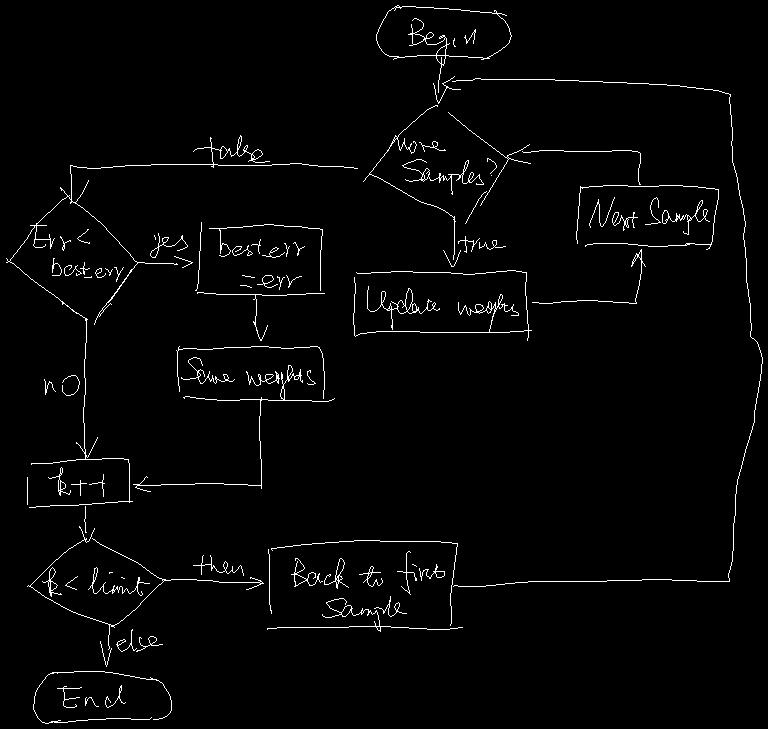arrow: (442, 76, 762, 586), (133, 397, 261, 491), (60, 163, 357, 203), (532, 249, 645, 303), (507, 144, 640, 184), (76, 318, 97, 458), (162, 577, 263, 589), (443, 216, 460, 266), (433, 57, 447, 103), (253, 295, 267, 340), (137, 256, 192, 267), (79, 506, 94, 542), (100, 624, 111, 666)
decision: (363, 105, 508, 223), (6, 195, 138, 324), (27, 538, 165, 627)
process: (267, 540, 462, 629), (353, 270, 531, 340), (195, 222, 324, 295), (576, 185, 718, 249), (176, 346, 334, 401), (27, 458, 132, 507)
terminator: (376, 5, 511, 59), (33, 671, 171, 723)
text: (291, 551, 444, 631), (367, 286, 518, 331), (386, 135, 496, 194), (181, 357, 315, 399), (30, 223, 123, 281), (219, 228, 304, 289), (589, 197, 709, 234), (408, 18, 475, 65), (42, 567, 149, 596), (193, 135, 269, 167), (48, 467, 104, 496), (57, 685, 125, 707), (116, 629, 162, 651), (193, 555, 243, 575), (150, 233, 187, 257), (458, 236, 505, 252), (44, 375, 79, 395)
